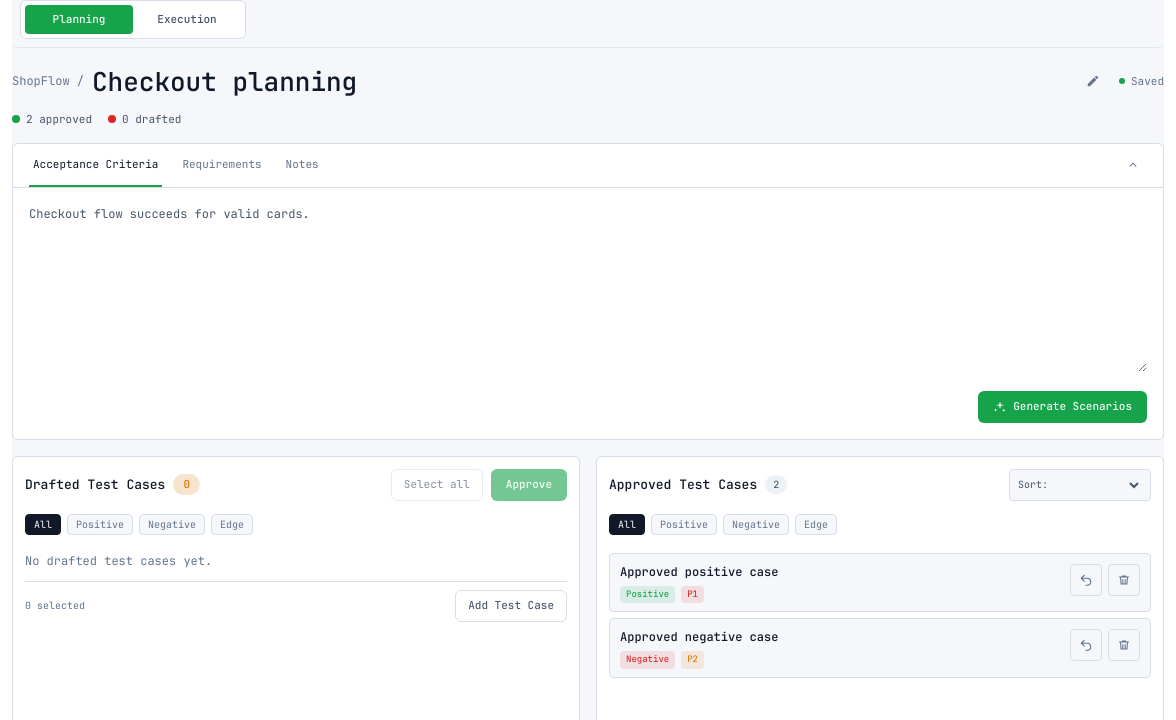
Test case: FeaturePlanningPage › filters approved test cases by type
The image size is (1176, 720).
expect the text "Approved positive case" is shown: met, box x1=620 y1=564 x2=778 y2=580
expect the text "Approved negative case" is shown: met, box x1=620 y1=629 x2=778 y2=645
Click the button "Negative" below "Approved Test Cases" at x=756, y=524, box x1=723 y1=514 x2=789 y2=535
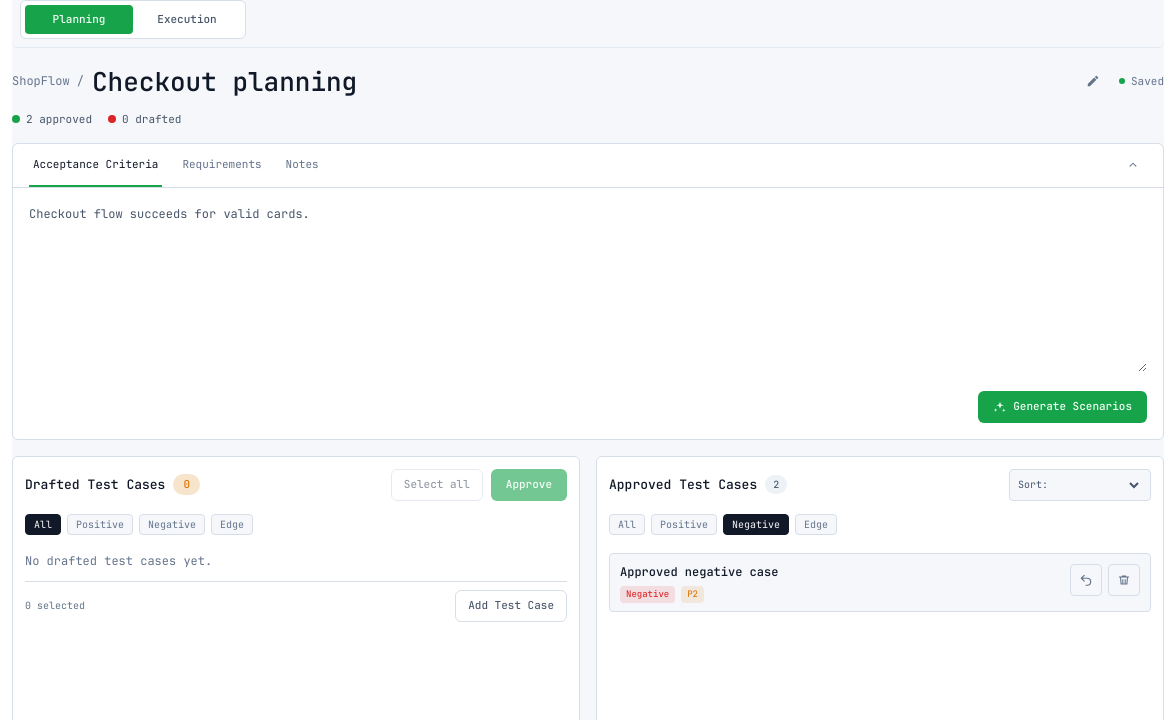
expect the text "Approved negative case" is shown: met, box x1=620 y1=564 x2=778 y2=580
expect the text "Approved positive case" is gone: met
